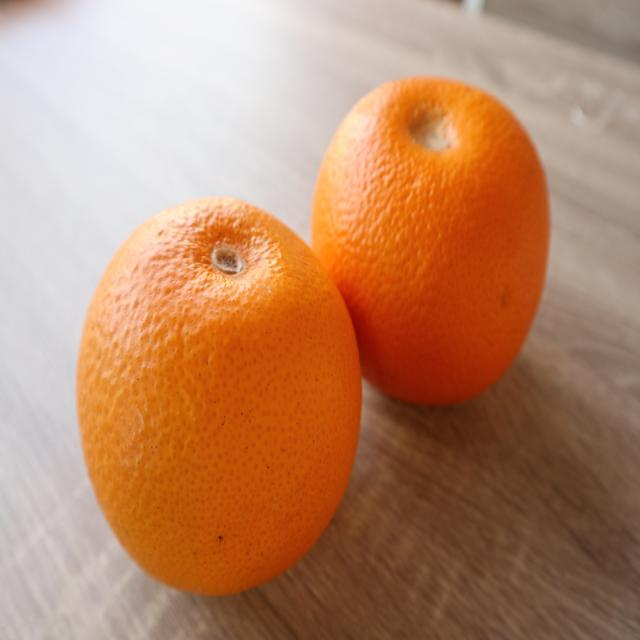Orange: (76, 196, 360, 595), (305, 70, 552, 411)
